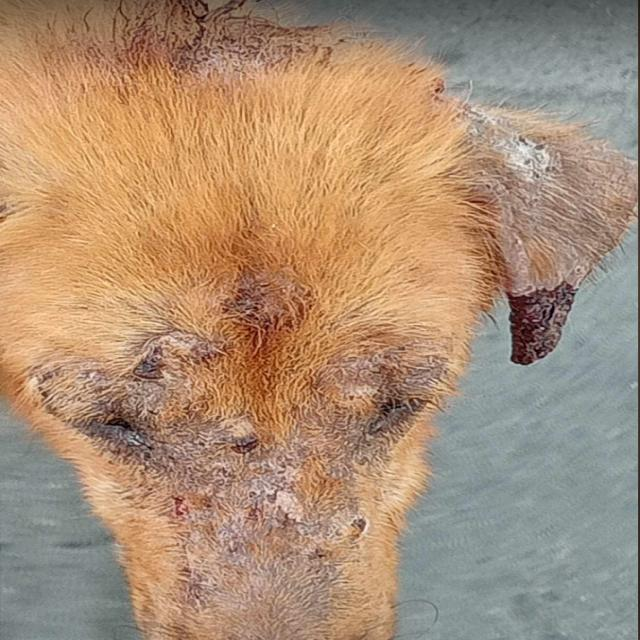demodicosis: (449, 123, 640, 370), (163, 427, 366, 640)
